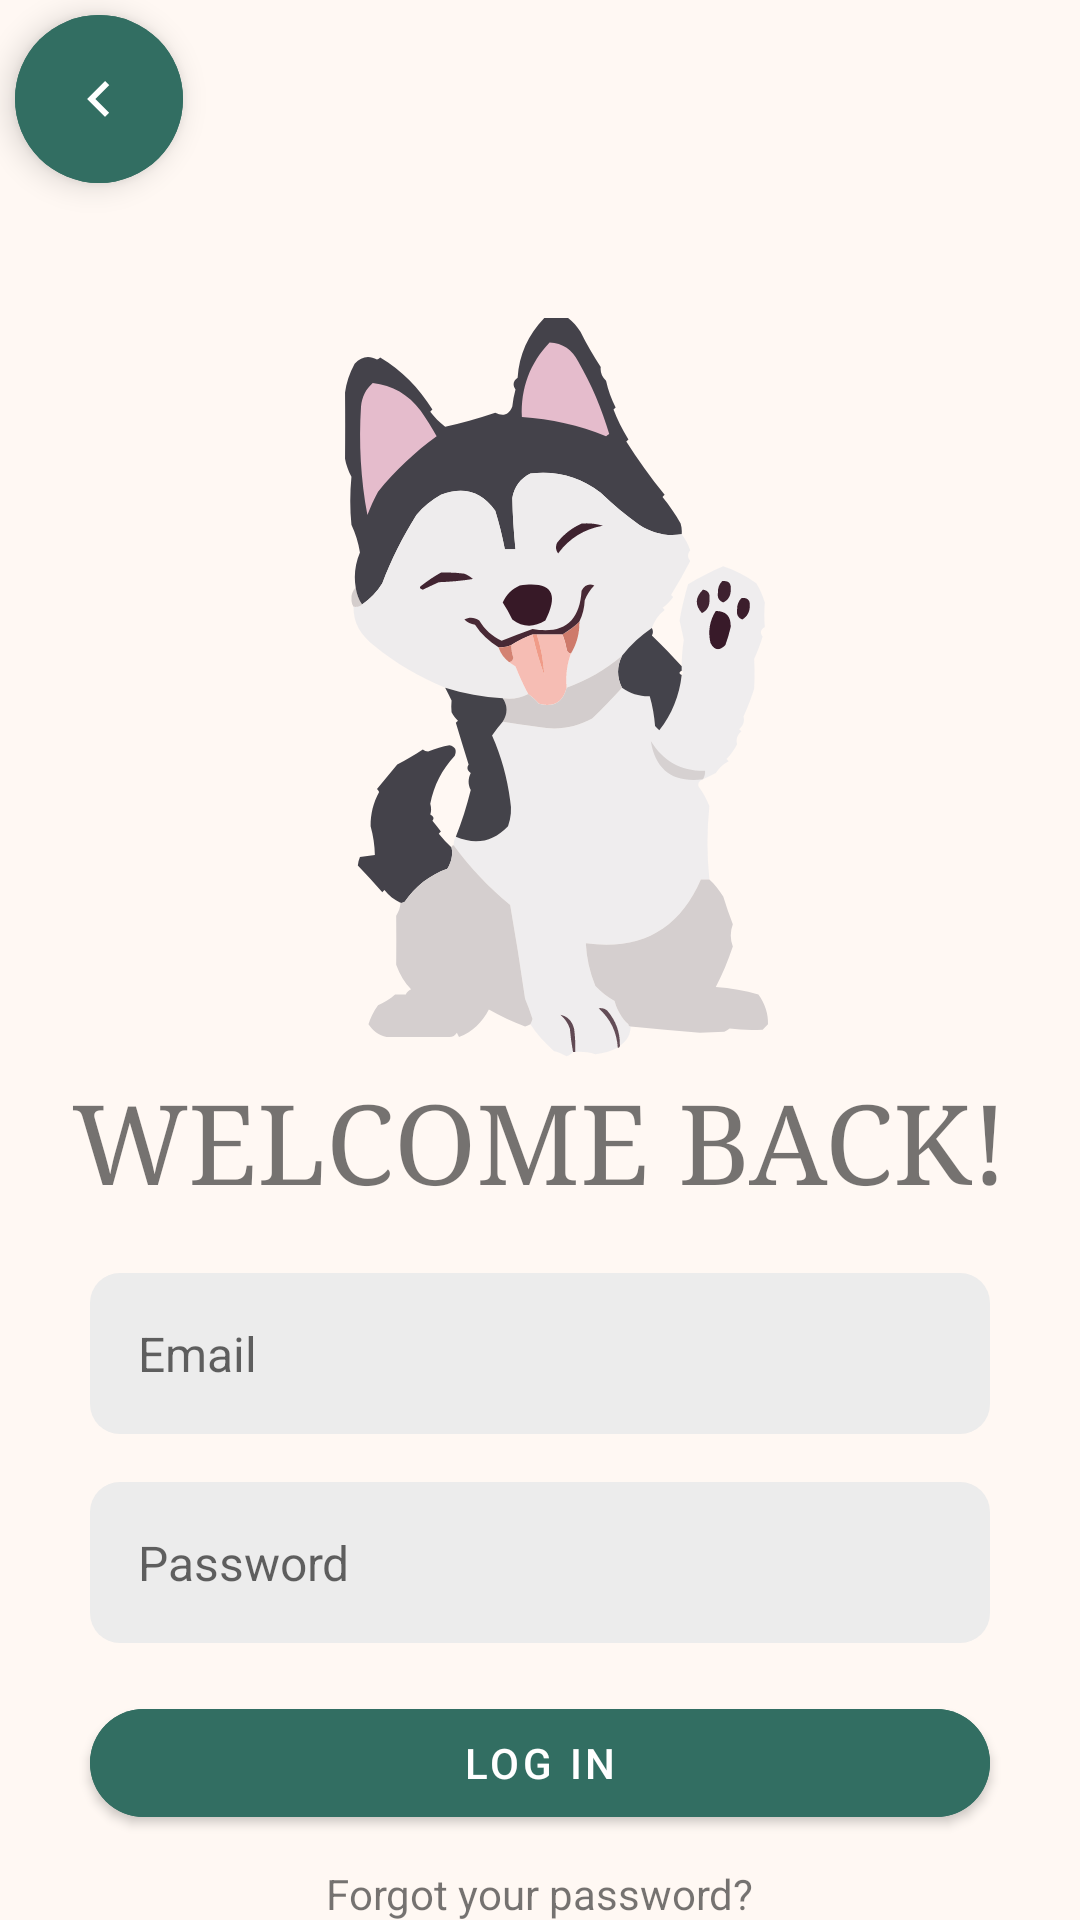

Icons on this 1080px x 1920px Android screen, each with its box as (x1, y1, x2, y2):
back arrow: (15, 15, 183, 183)
